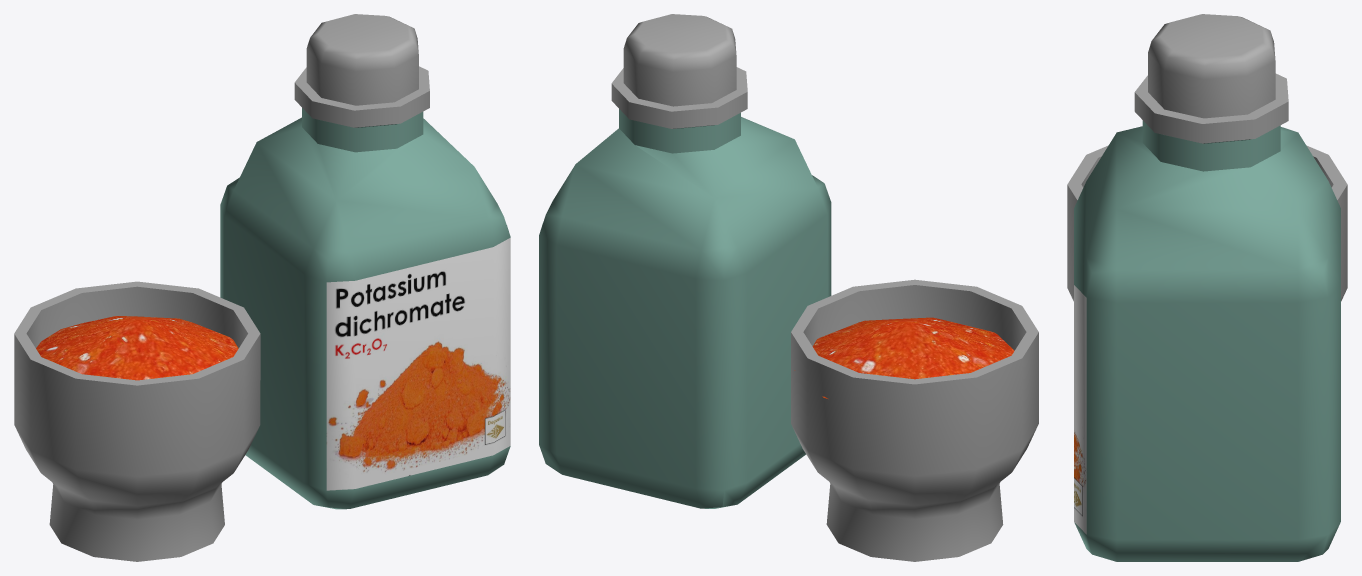
File: Pottasium dichromate.fbx
3 views of the same model, side by side, from view 1: azimuth 30°, elevation 25°; view 2: azimuth 150°, elevation 25°; view 3: azimuth 270°, elevation 25° (orthographic). The views are drawn at different scales.
Visible parts, largest first — view 1: potashyam_dicromite; view 2: potashyam_dicromite; view 3: potashyam_dicromite.
Part boxes in pixels (bbox=[...]): potashyam_dicromite: bbox=[14, 14, 510, 561]; potashyam_dicromite: bbox=[539, 14, 1038, 561]; potashyam_dicromite: bbox=[1067, 14, 1347, 561].
Bounding box in the file's own units: 29.68 × 28.19 × 14.5.
Materials: 5 (2 with a texture image).
